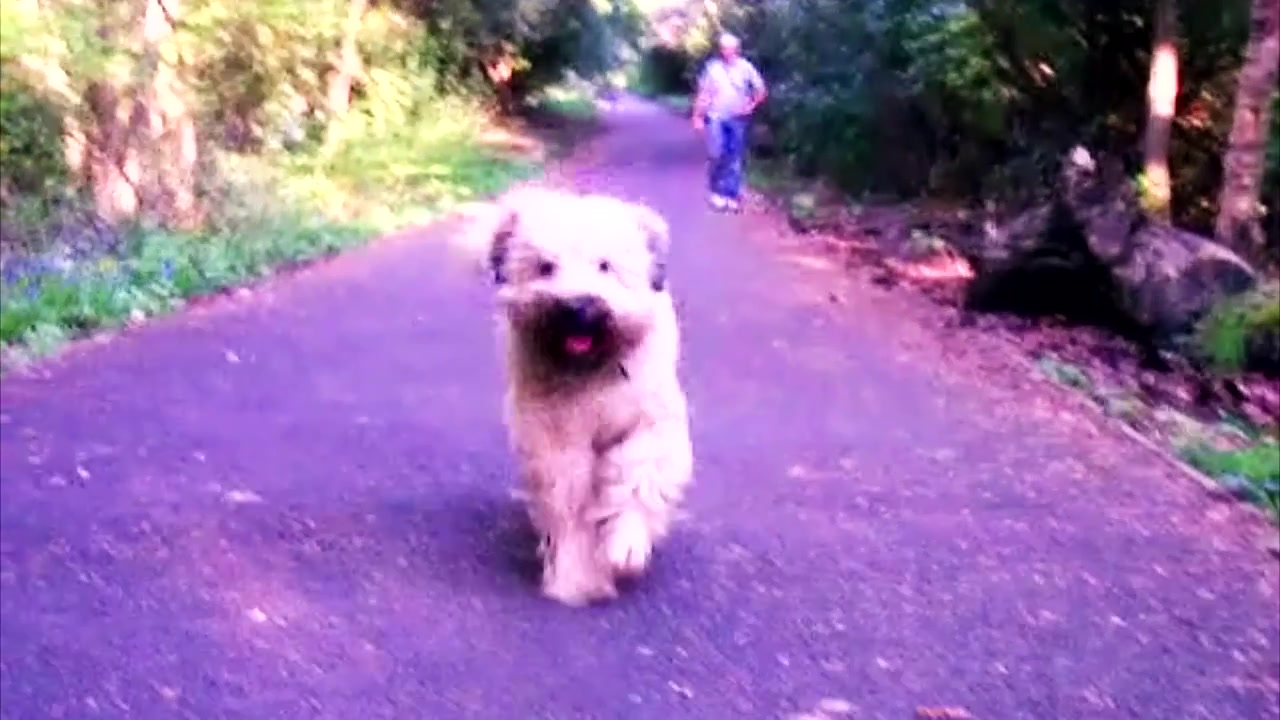dog: (482, 184, 696, 608)
